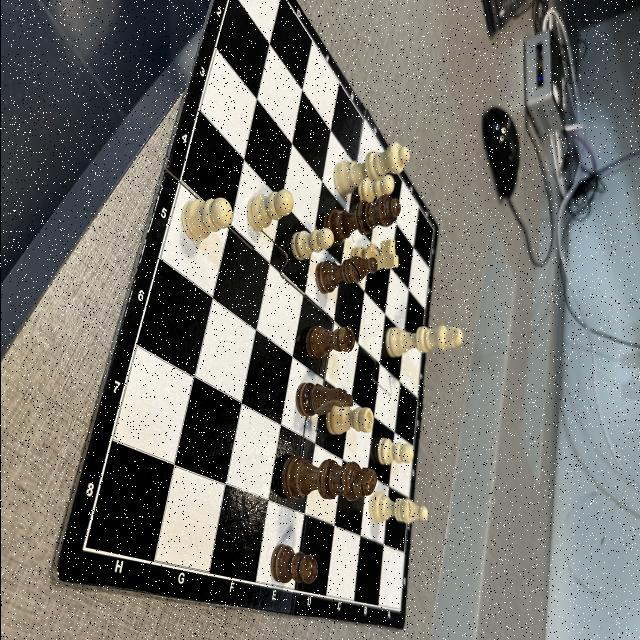Black-Bishop: (314, 256, 376, 295)
Black-King: (282, 456, 376, 502)
Black-Knight: (295, 382, 354, 417)
Black-Pawn: (270, 545, 318, 584)
Black-Queen: (322, 196, 400, 243)
Black-Rook: (304, 325, 354, 357)
White-Bishop: (368, 490, 428, 522)
White-King: (384, 325, 462, 358)
White-Knight: (349, 240, 398, 272)
White-Pawn: (180, 198, 232, 242), (245, 189, 293, 230), (287, 228, 333, 261), (356, 175, 393, 203), (376, 438, 414, 465)
White-Queen: (333, 143, 409, 194)
White-Rook: (325, 402, 373, 434)
